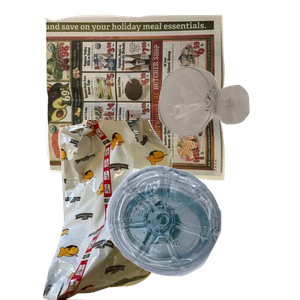glass: (156, 64, 300, 194)
paper: (42, 12, 260, 185)
plastic: (104, 163, 300, 300)
trash: (25, 120, 198, 300)
